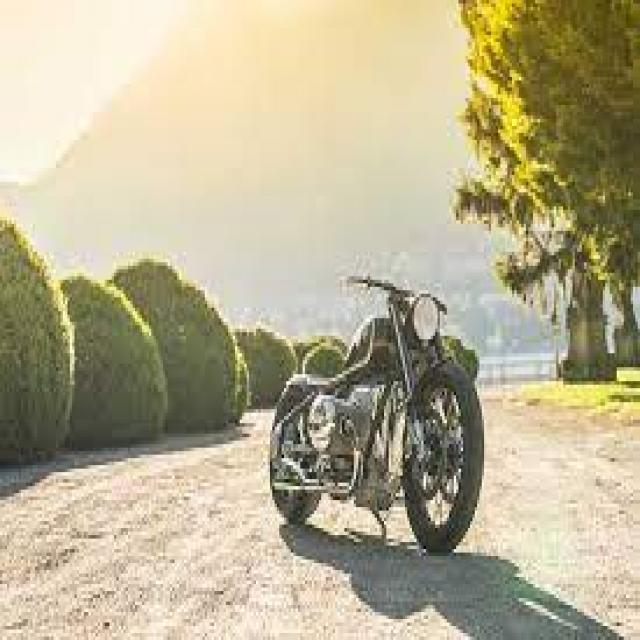Bike: (268, 272, 486, 558)
